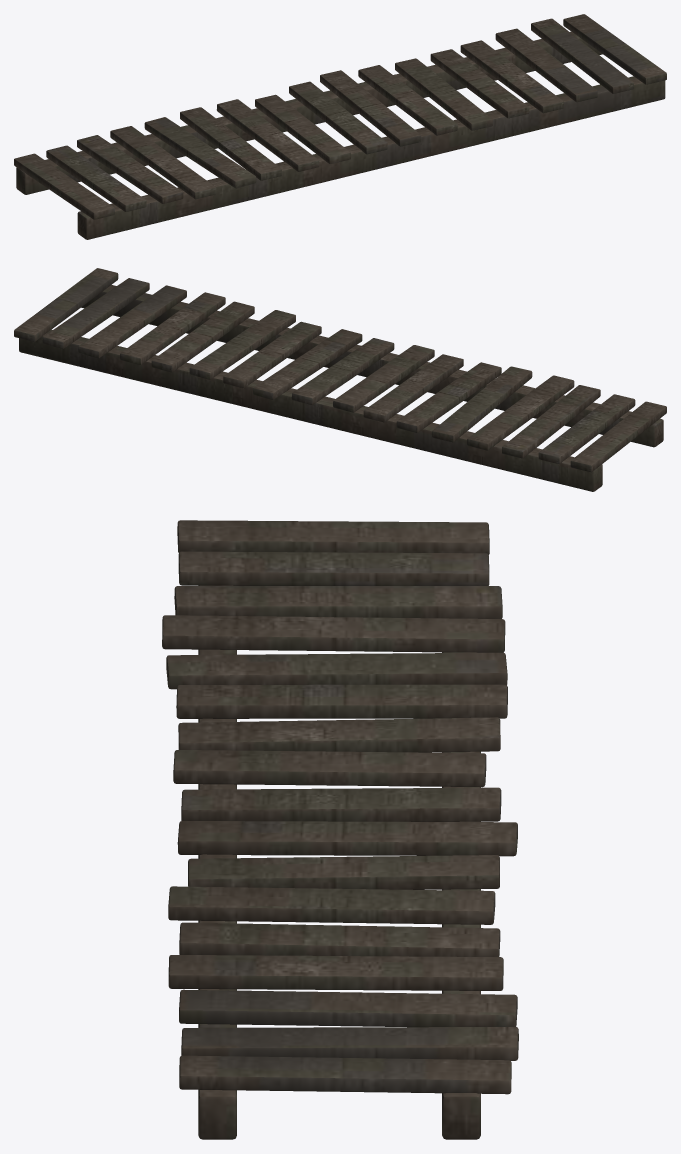
The model's file is duckboard.glb.
3 views of the same model, one above another, from view 1: azimuth 30°, elevation 25°; view 2: azimuth 150°, elevation 25°; view 3: azimuth 270°, elevation 25° (orthographic). The views are drawn at different scales.
Parts seen in each view (by area): view 1: duckboard_Wood; view 2: duckboard_Wood; view 3: duckboard_Wood.
Part boxes in pixels (bbox=[...]): duckboard_Wood: bbox=[14, 14, 666, 239]; duckboard_Wood: bbox=[14, 268, 666, 491]; duckboard_Wood: bbox=[162, 520, 518, 1139].
Bounding box in the file's own units: 2.4 × 0.1246 × 0.644.
Materials: 1 (1 with a texture image).
